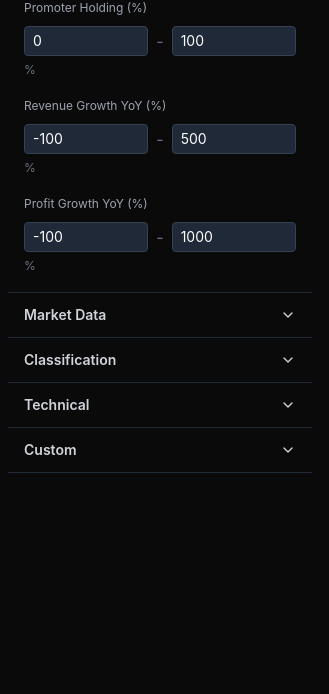
Scenario: FilterPanel › renders multi-select filters
(page scrolled)
Click the button "Classification" at [70, 360], box [8,338,312,382]
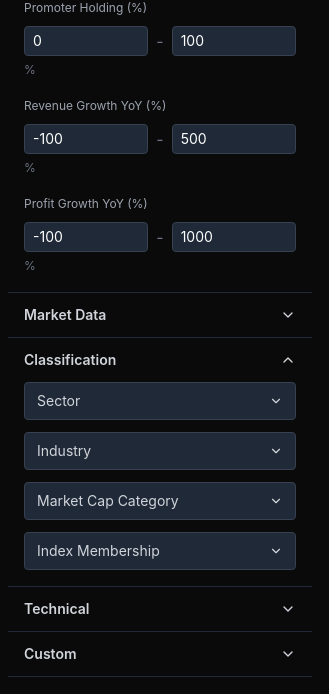
Expected: the button "Sector" is shown, [24,382,296,420]
Expected: the button "Industry" is shown, [24,432,296,470]
Expected: the button "Market Cap Category" is shown, [24,482,296,520]
